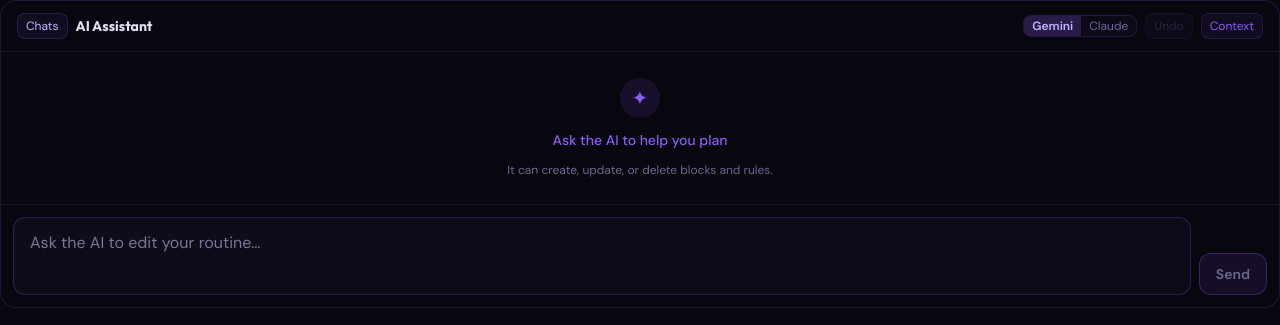
Test: ChatPanel › toggles the conversation list sidebar
Expected: the text "conversations" is not shown
Click the button with aria-label "toggle conversation list" at (42, 26), box [17, 13, 68, 39]
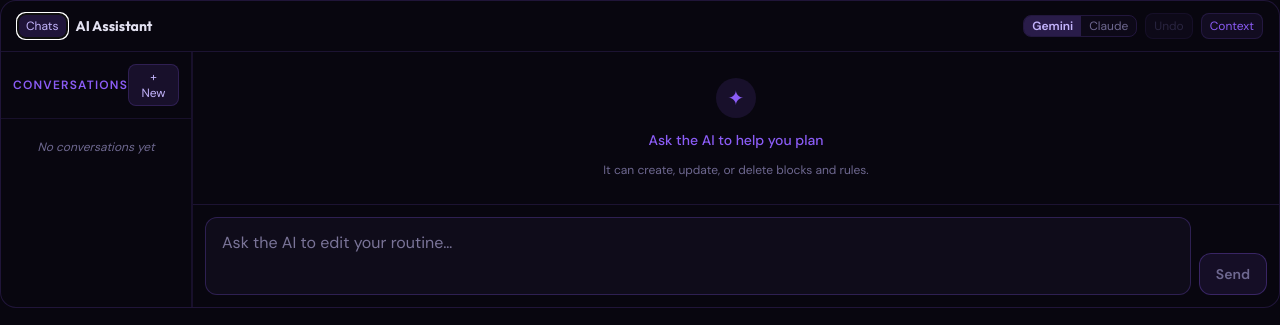
Now the text "Conversations" is shown, box [13, 77, 128, 93]
